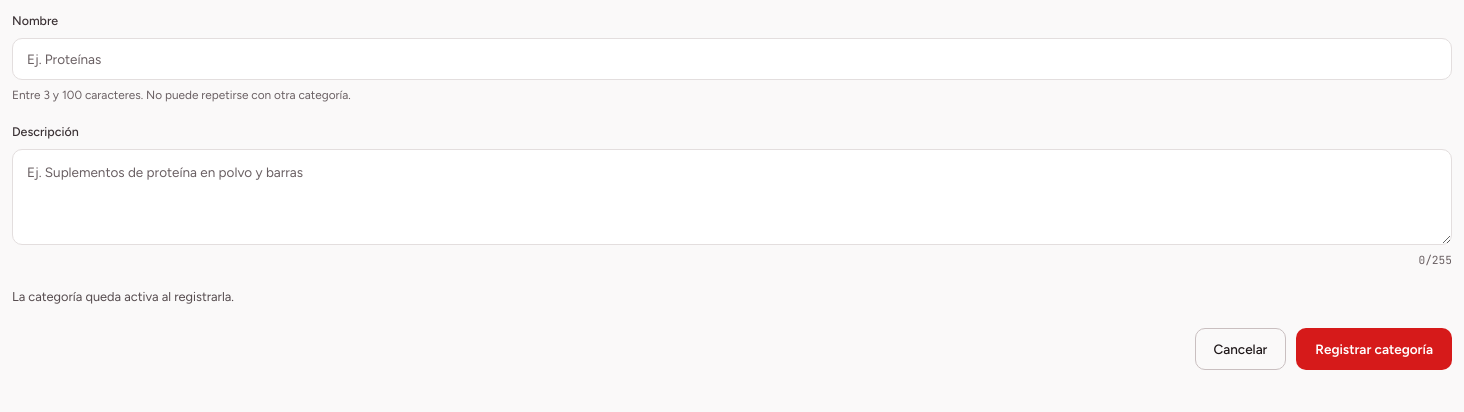
Test case: CreateCategoryForm › validates the length of the name "Pr"
In the field labelled "Nombre": (732, 59) [12,38,1452,80], type "Pr"
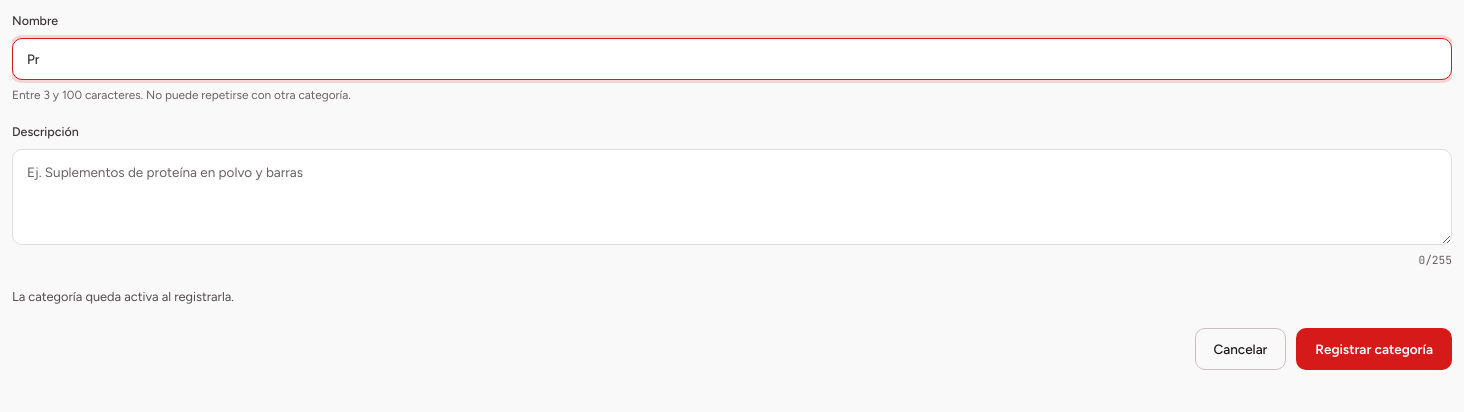
In the text box labelled "Descripción": (732, 197) [12,149,1452,245], type "Descripción"
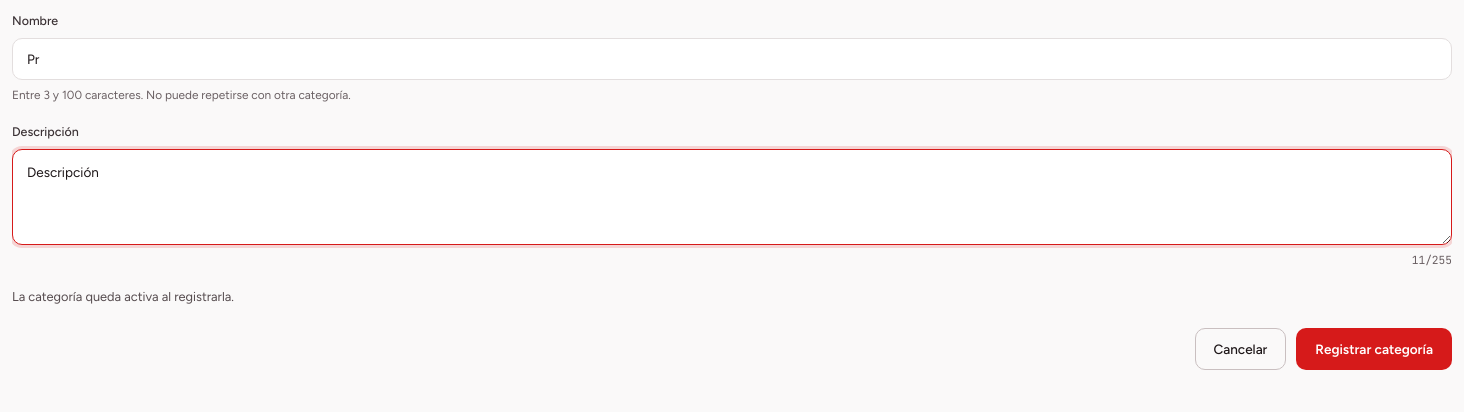
Click the button "Registrar categoría": click(1374, 349) [1296,328,1452,370]
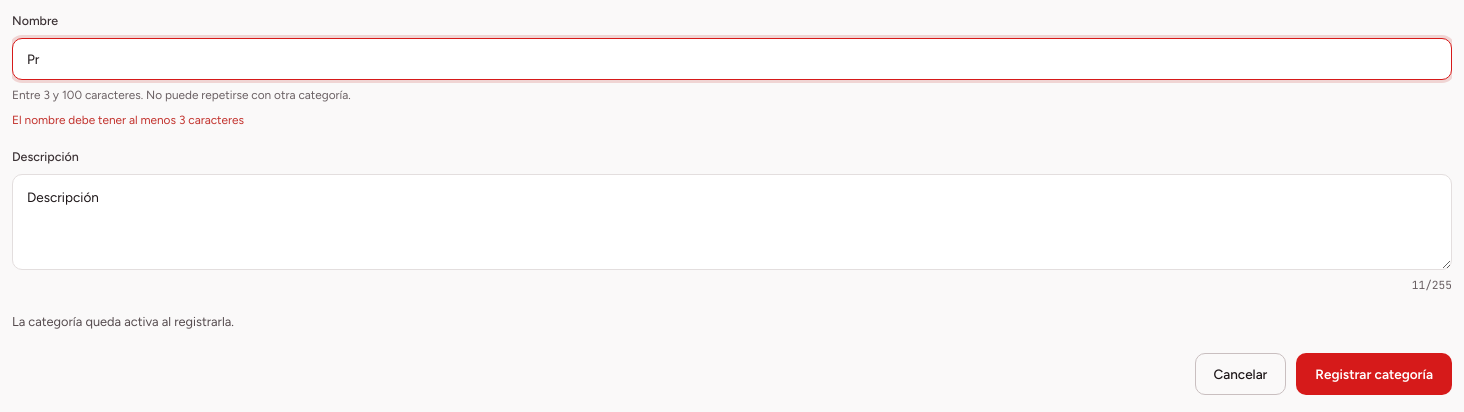
Check: the text "El nombre debe tener al menos 3 caracteres" is shown, box [12,113,244,127]
